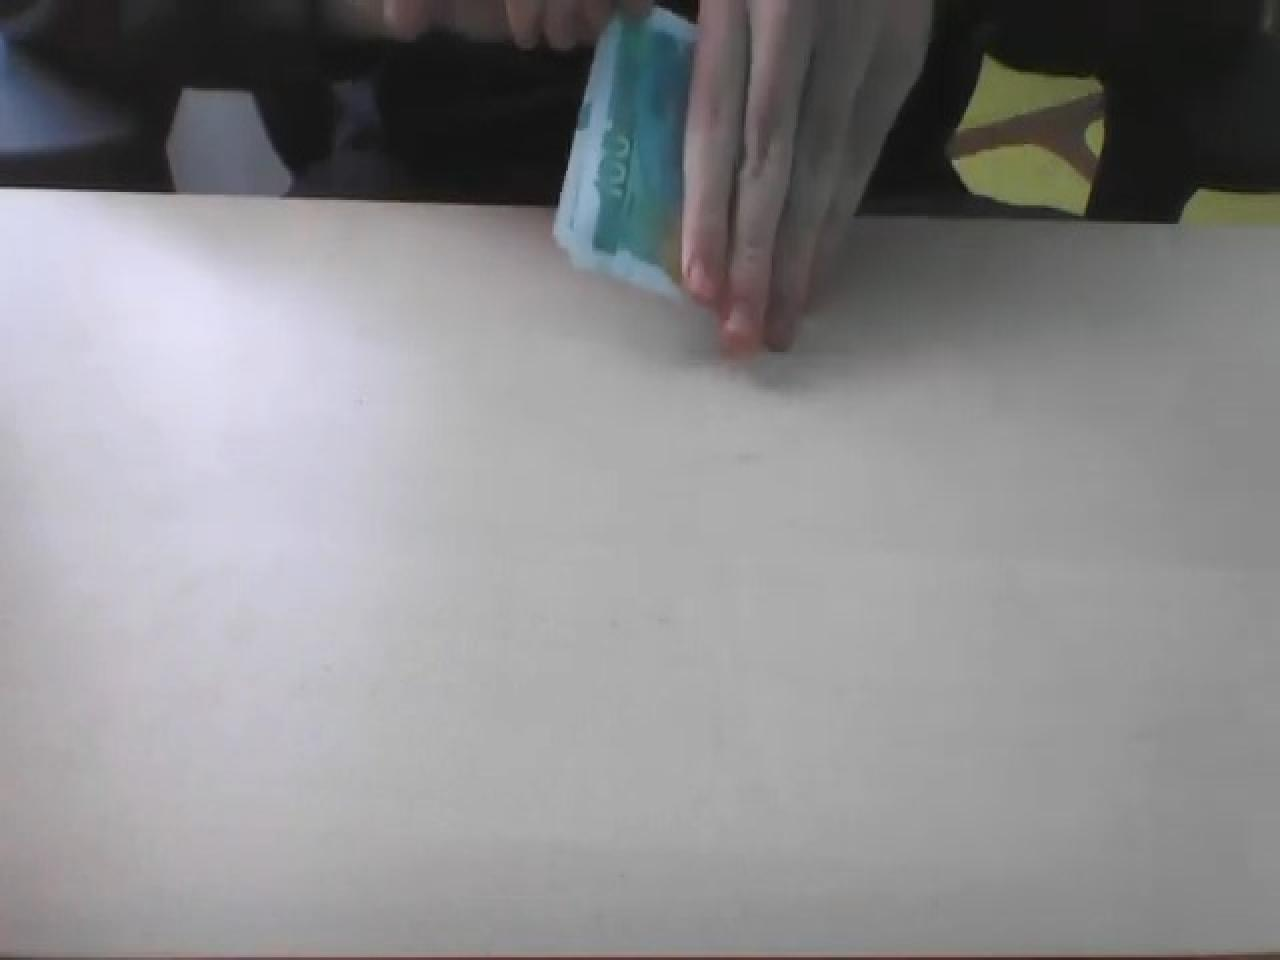100leva: (552, 0, 702, 304)
